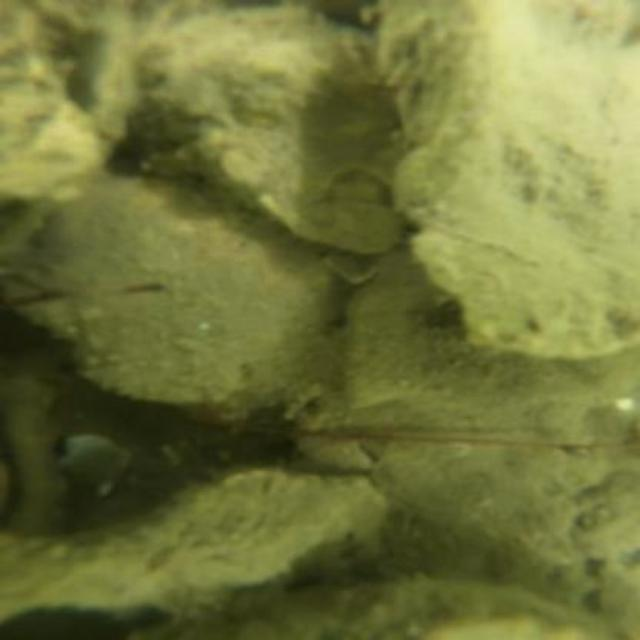Oyster-Closed: (386, 1, 639, 362), (12, 174, 342, 413), (121, 6, 396, 255), (19, 470, 389, 610)
